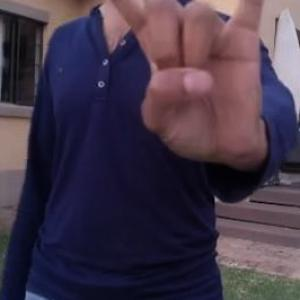takeoff-hand: (84, 0, 276, 162)
